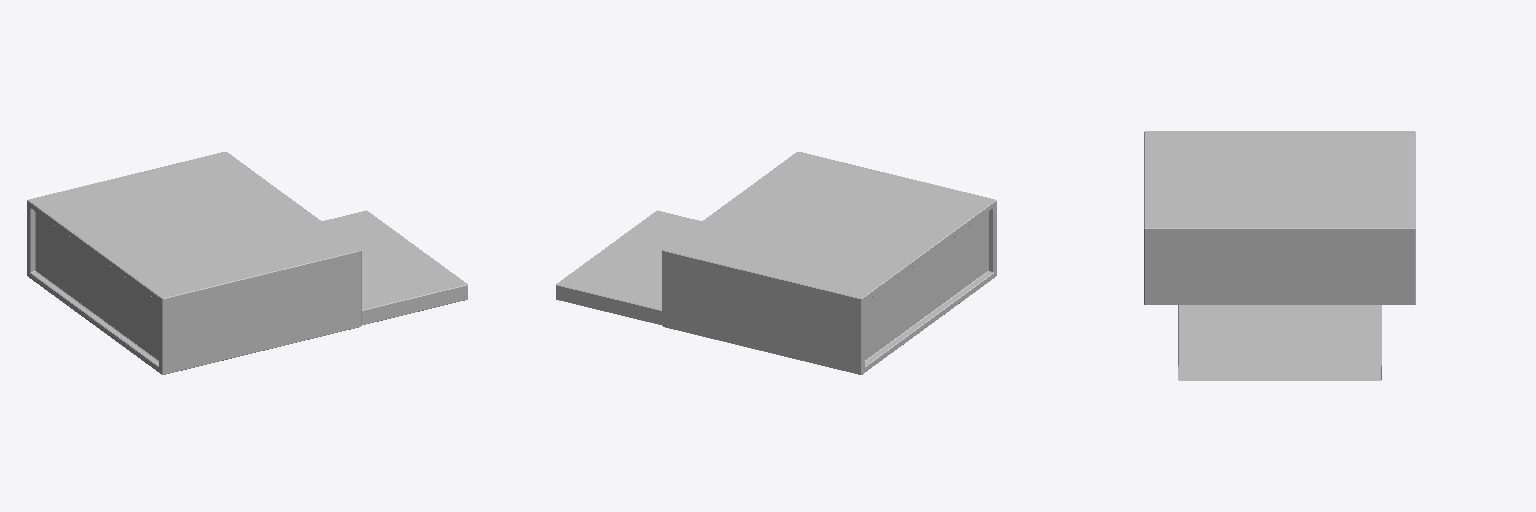
The model's file is secondLivingroomTable.obj.
3 views of the same model, side by side, from view 1: azimuth 30°, elevation 25°; view 2: azimuth 150°, elevation 25°; view 3: azimuth 270°, elevation 25° (orthographic).
Parts seen in each view (by area): view 1: Cube.014_Cube.031; view 2: Cube.014_Cube.031; view 3: Cube.014_Cube.031.
Boxes of the visible parts, <box> form: Cube.014_Cube.031: <box>27,152,467,374</box>; Cube.014_Cube.031: <box>556,152,996,374</box>; Cube.014_Cube.031: <box>1144,131,1415,380</box>.
Size of the model in its own units: 1.1 by 0.3 by 0.8.